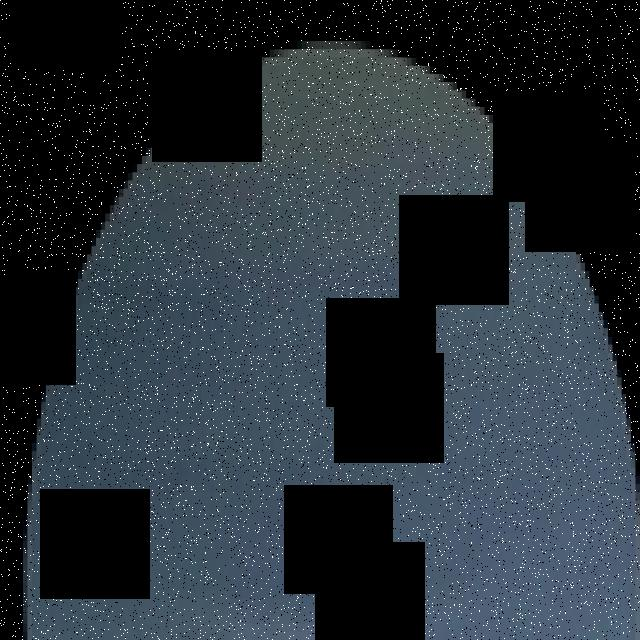Uranus: (23, 33, 640, 640)
